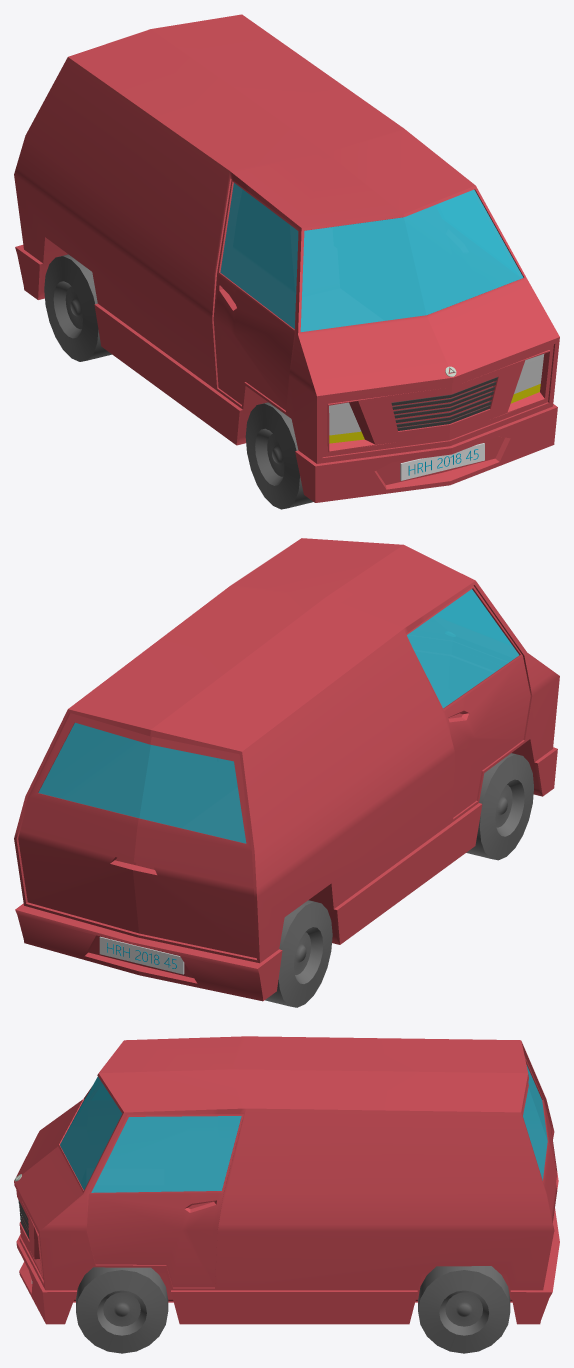
Rendered from LowPolyVan.fbx.
The picture shows the model from 3 angles, top to bottom: view 1: azimuth 30°, elevation 25°; view 2: azimuth 150°, elevation 25°; view 3: azimuth 270°, elevation 25°; orthographic projection. The views are drawn at different scales.
Visible parts, largest first — view 1: Body, BackRight, FrontRight, pCube1; view 2: Body, FrontRight, BackRight, pCube1; view 3: Body, BackLeft, FrontLeft.
Part boxes in pixels (x1=…): Body: x1=14, y1=14, x2=559, y2=502; BackRight: x1=44, y1=254, x2=111, y2=361; FrontRight: x1=245, y1=402, x2=312, y2=509; pCube1: x1=400, y1=443, x2=484, y2=480; Body: x1=14, y1=538, x2=559, y2=1001; FrontRight: x1=466, y1=753, x2=533, y2=860; BackRight: x1=265, y1=900, x2=332, y2=1007; pCube1: x1=99, y1=936, x2=184, y2=974; Body: x1=14, y1=1036, x2=559, y2=1324; BackLeft: x1=418, y1=1266, x2=510, y2=1353; FrontLeft: x1=76, y1=1267, x2=168, y2=1353.
Size of what is drawn, in the model's own units: 9.74 by 10.64 by 22.31.
